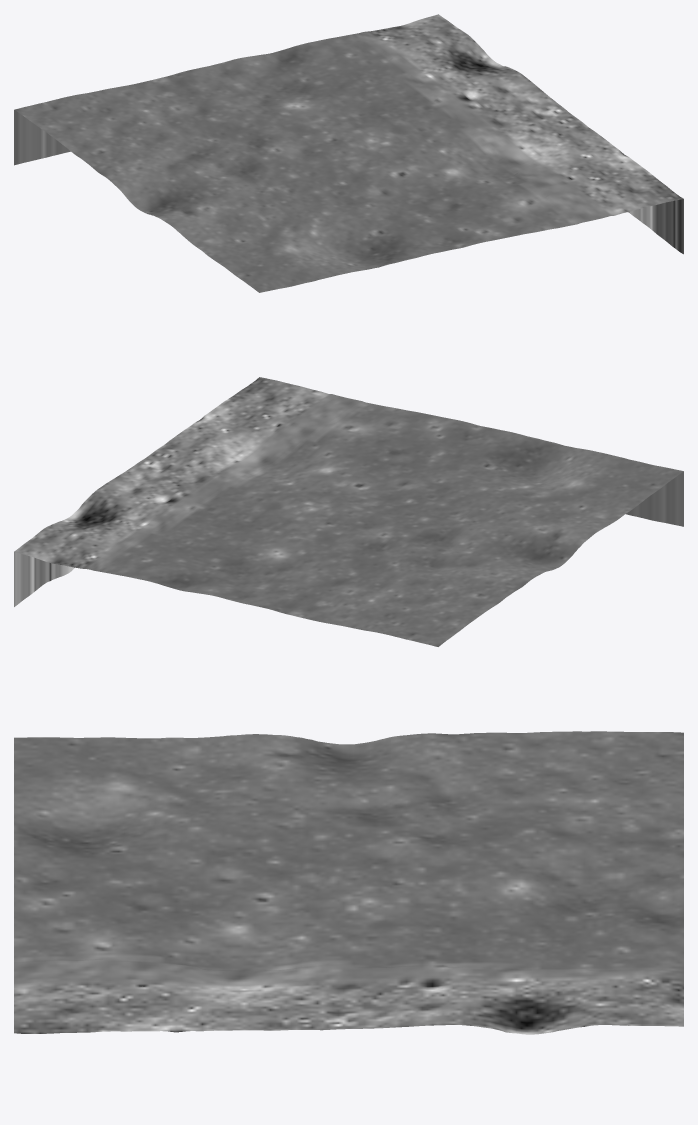
3 renders of one model, top to bottom at view 1: azimuth 30°, elevation 25°; view 2: azimuth 150°, elevation 25°; view 3: azimuth 270°, elevation 25°, orthographic. The views are drawn at different scales.
Bounding box in the file's own units: 638 × 102 × 639.
Materials: 1 (1 with a texture image).
